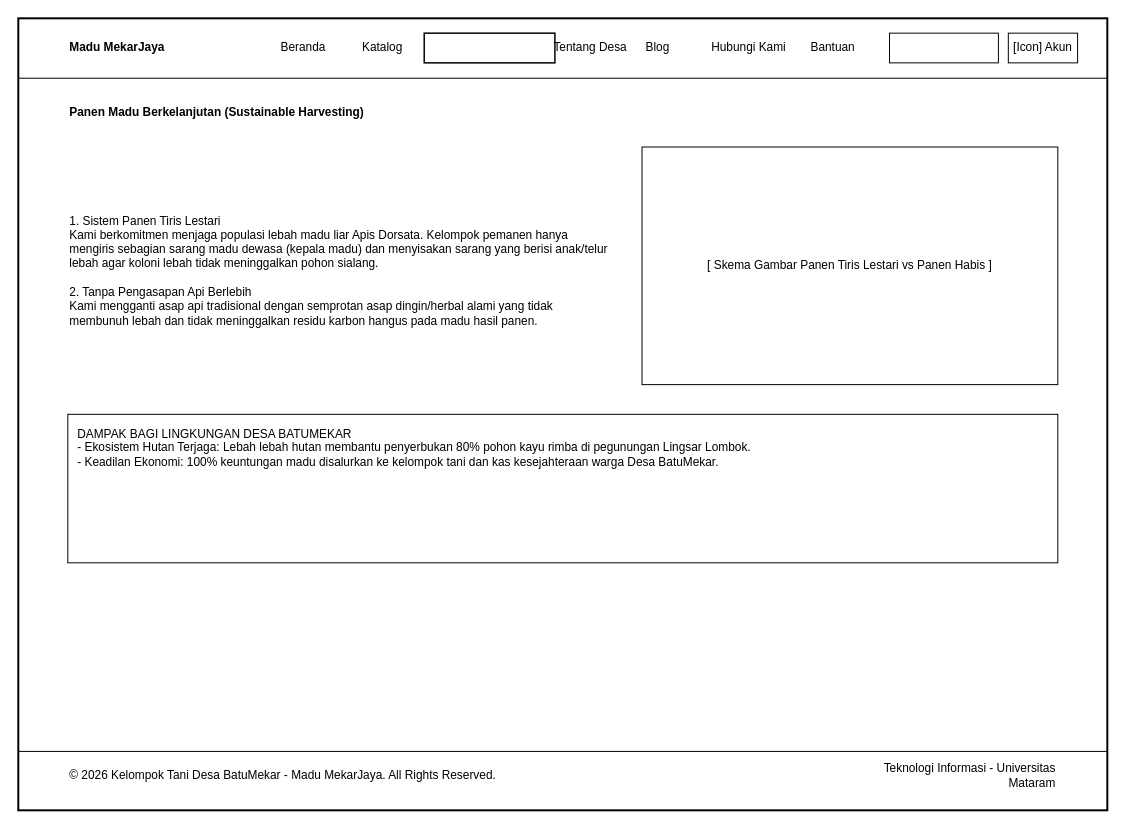
Some shapes in this 1125 by 828 pixel diagram are drawn without their labels. Here are the shapes that lost their labels. From the top down, the centre of each, then its label:
At point (489, 47): "Kalender Panen".
At point (943, 47): "[Icon] Keranjang (2)".
